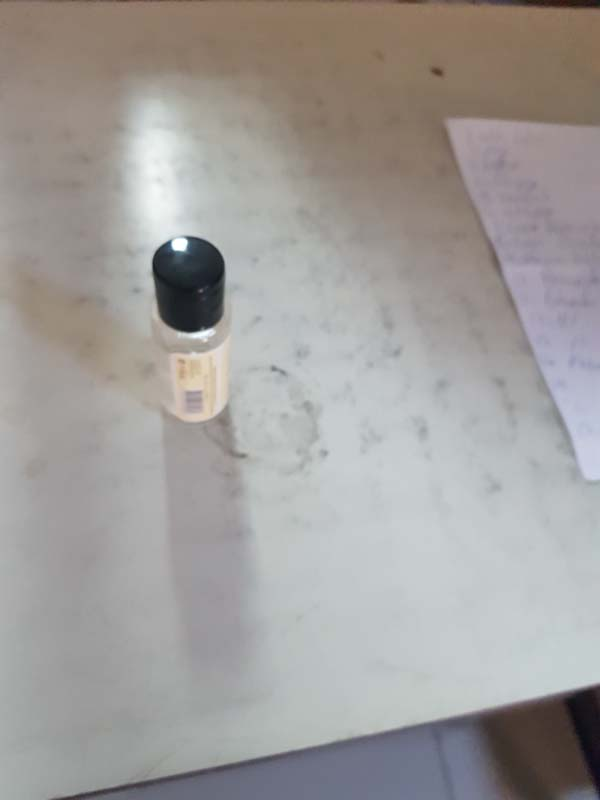redbulkolonya: (147, 228, 239, 442)
